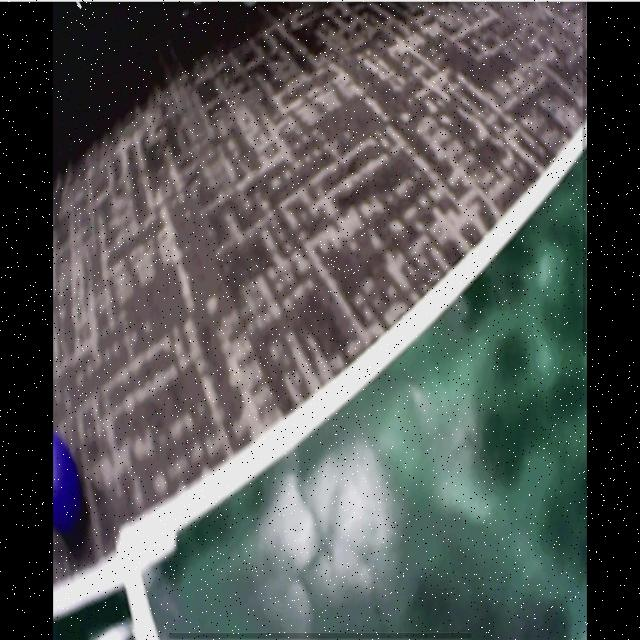ball: (55, 438, 78, 537)
